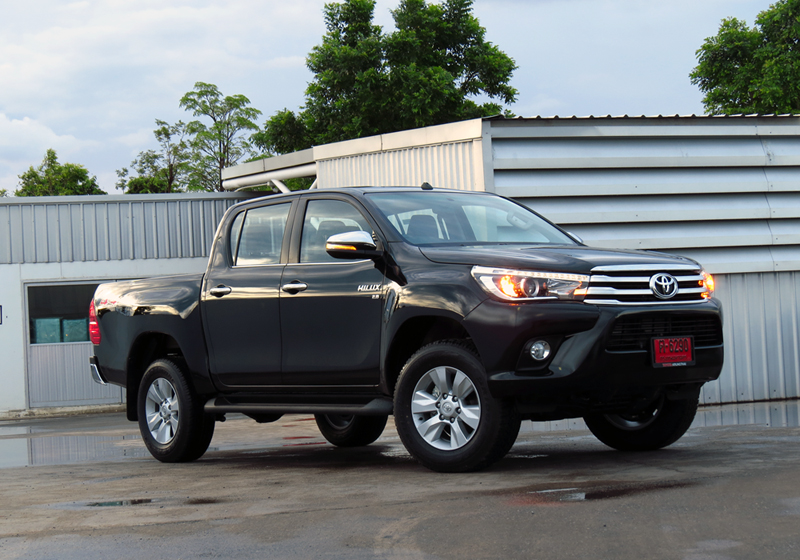pickup: (82, 181, 726, 474)
